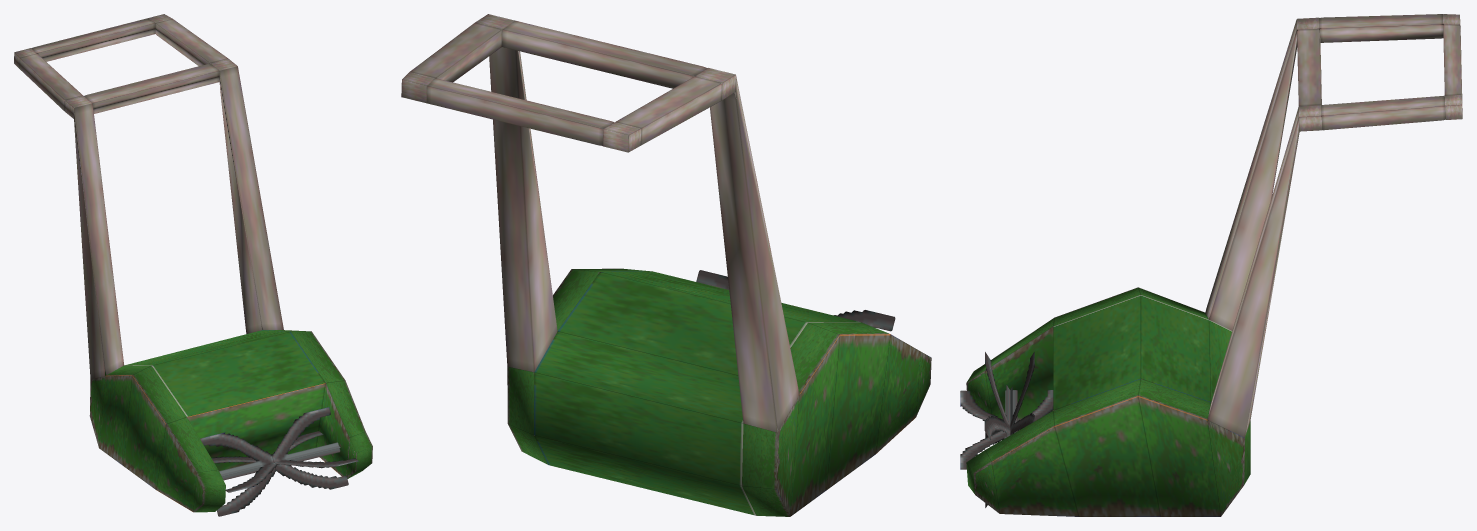
3 views of the same model, side by side, from view 1: azimuth 30°, elevation 25°; view 2: azimuth 150°, elevation 25°; view 3: azimuth 270°, elevation 25° (orthographic). The views are drawn at different scales.
Parts seen in each view (by area): view 1: T1L2M008_8; view 2: T1L2M008_8; view 3: T1L2M008_8.
Part boxes in pixels (x1=…): T1L2M008_8: x1=14, y1=14, x2=372, y2=516; T1L2M008_8: x1=401, y1=14, x2=931, y2=516; T1L2M008_8: x1=960, y1=14, x2=1462, y2=516.
Size of the model in its own units: 1.38 by 2.42 by 2.69.
Materials: 1 (1 with a texture image).
